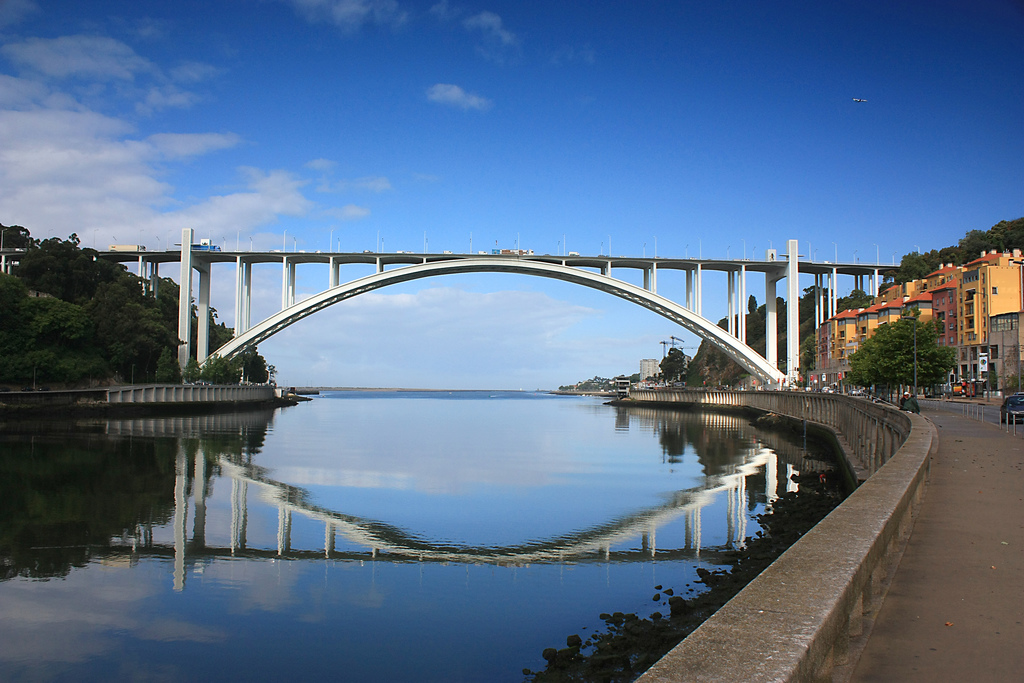arrabida: (88, 227, 905, 392)
